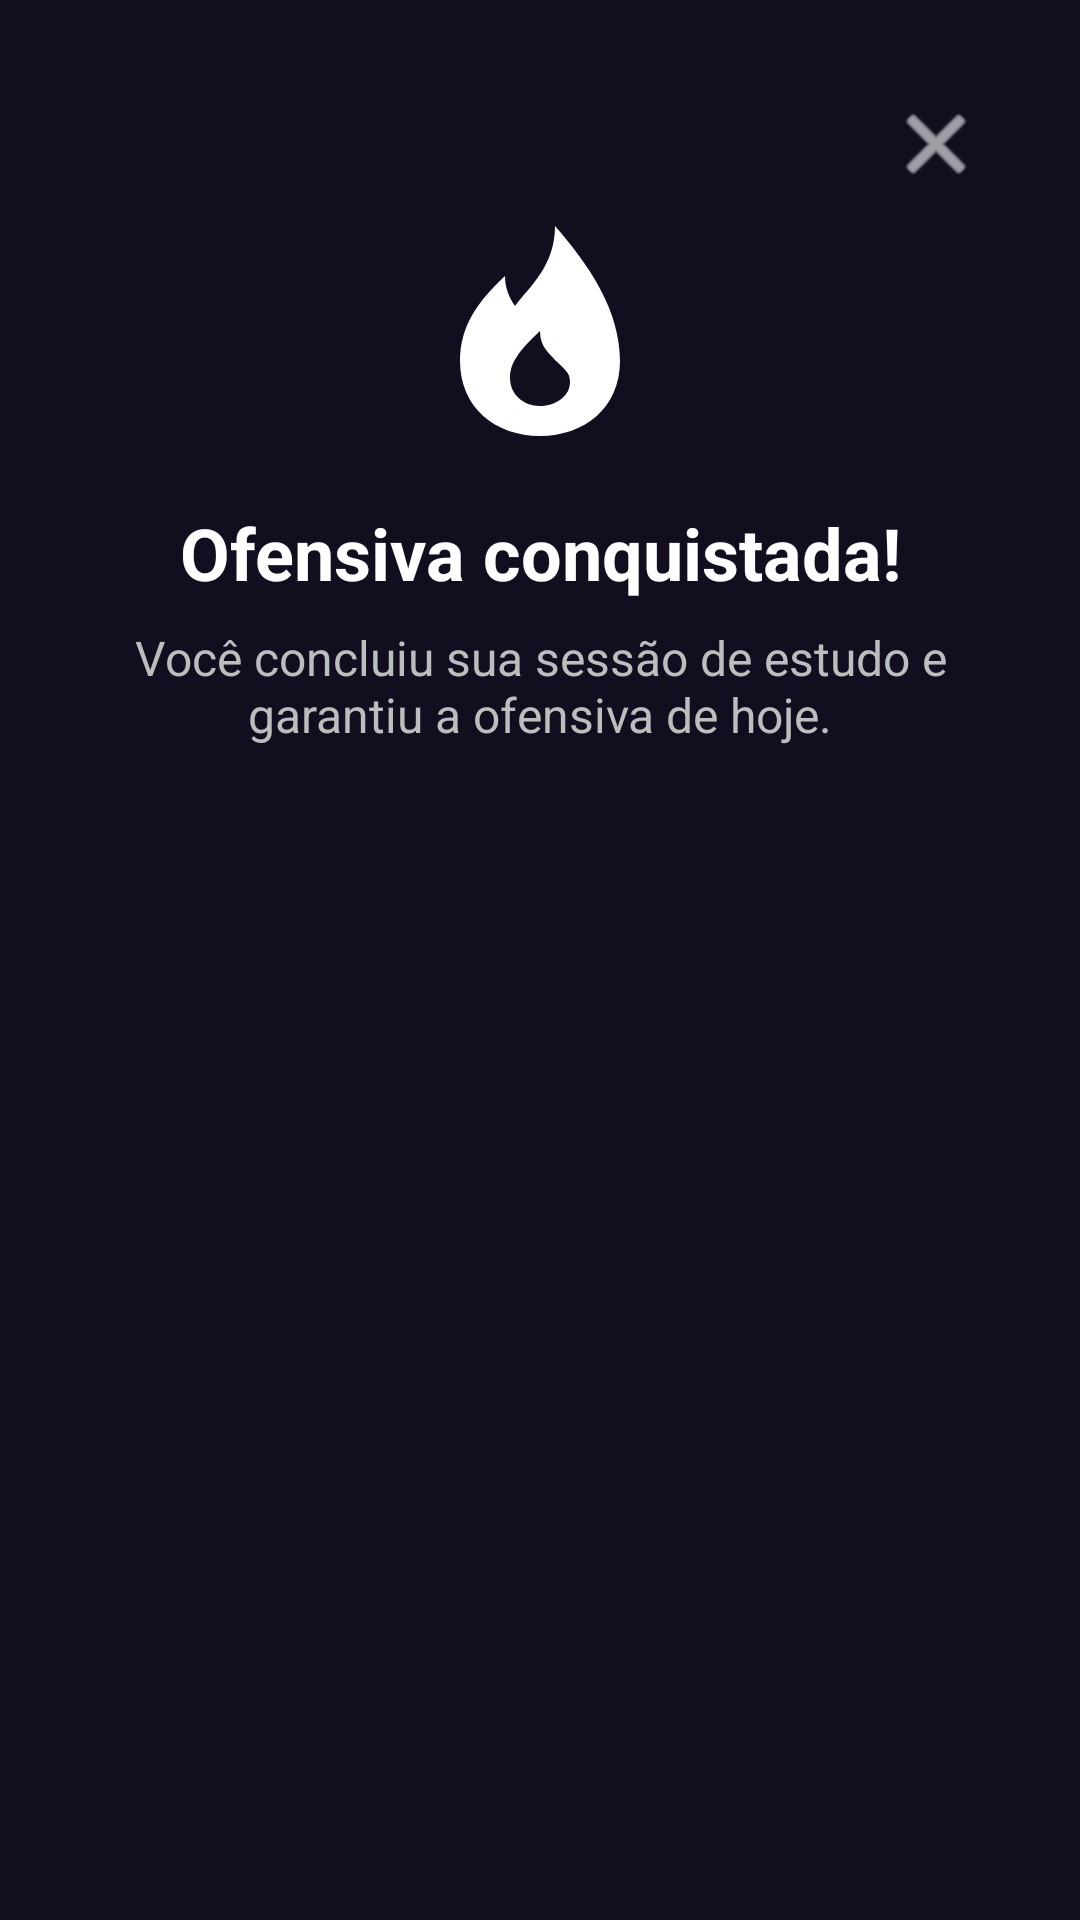

Where to tap for icons on this 1080*1920 app screen, as [x,y]:
Fechar conquista de ofensiva: [936,144]
